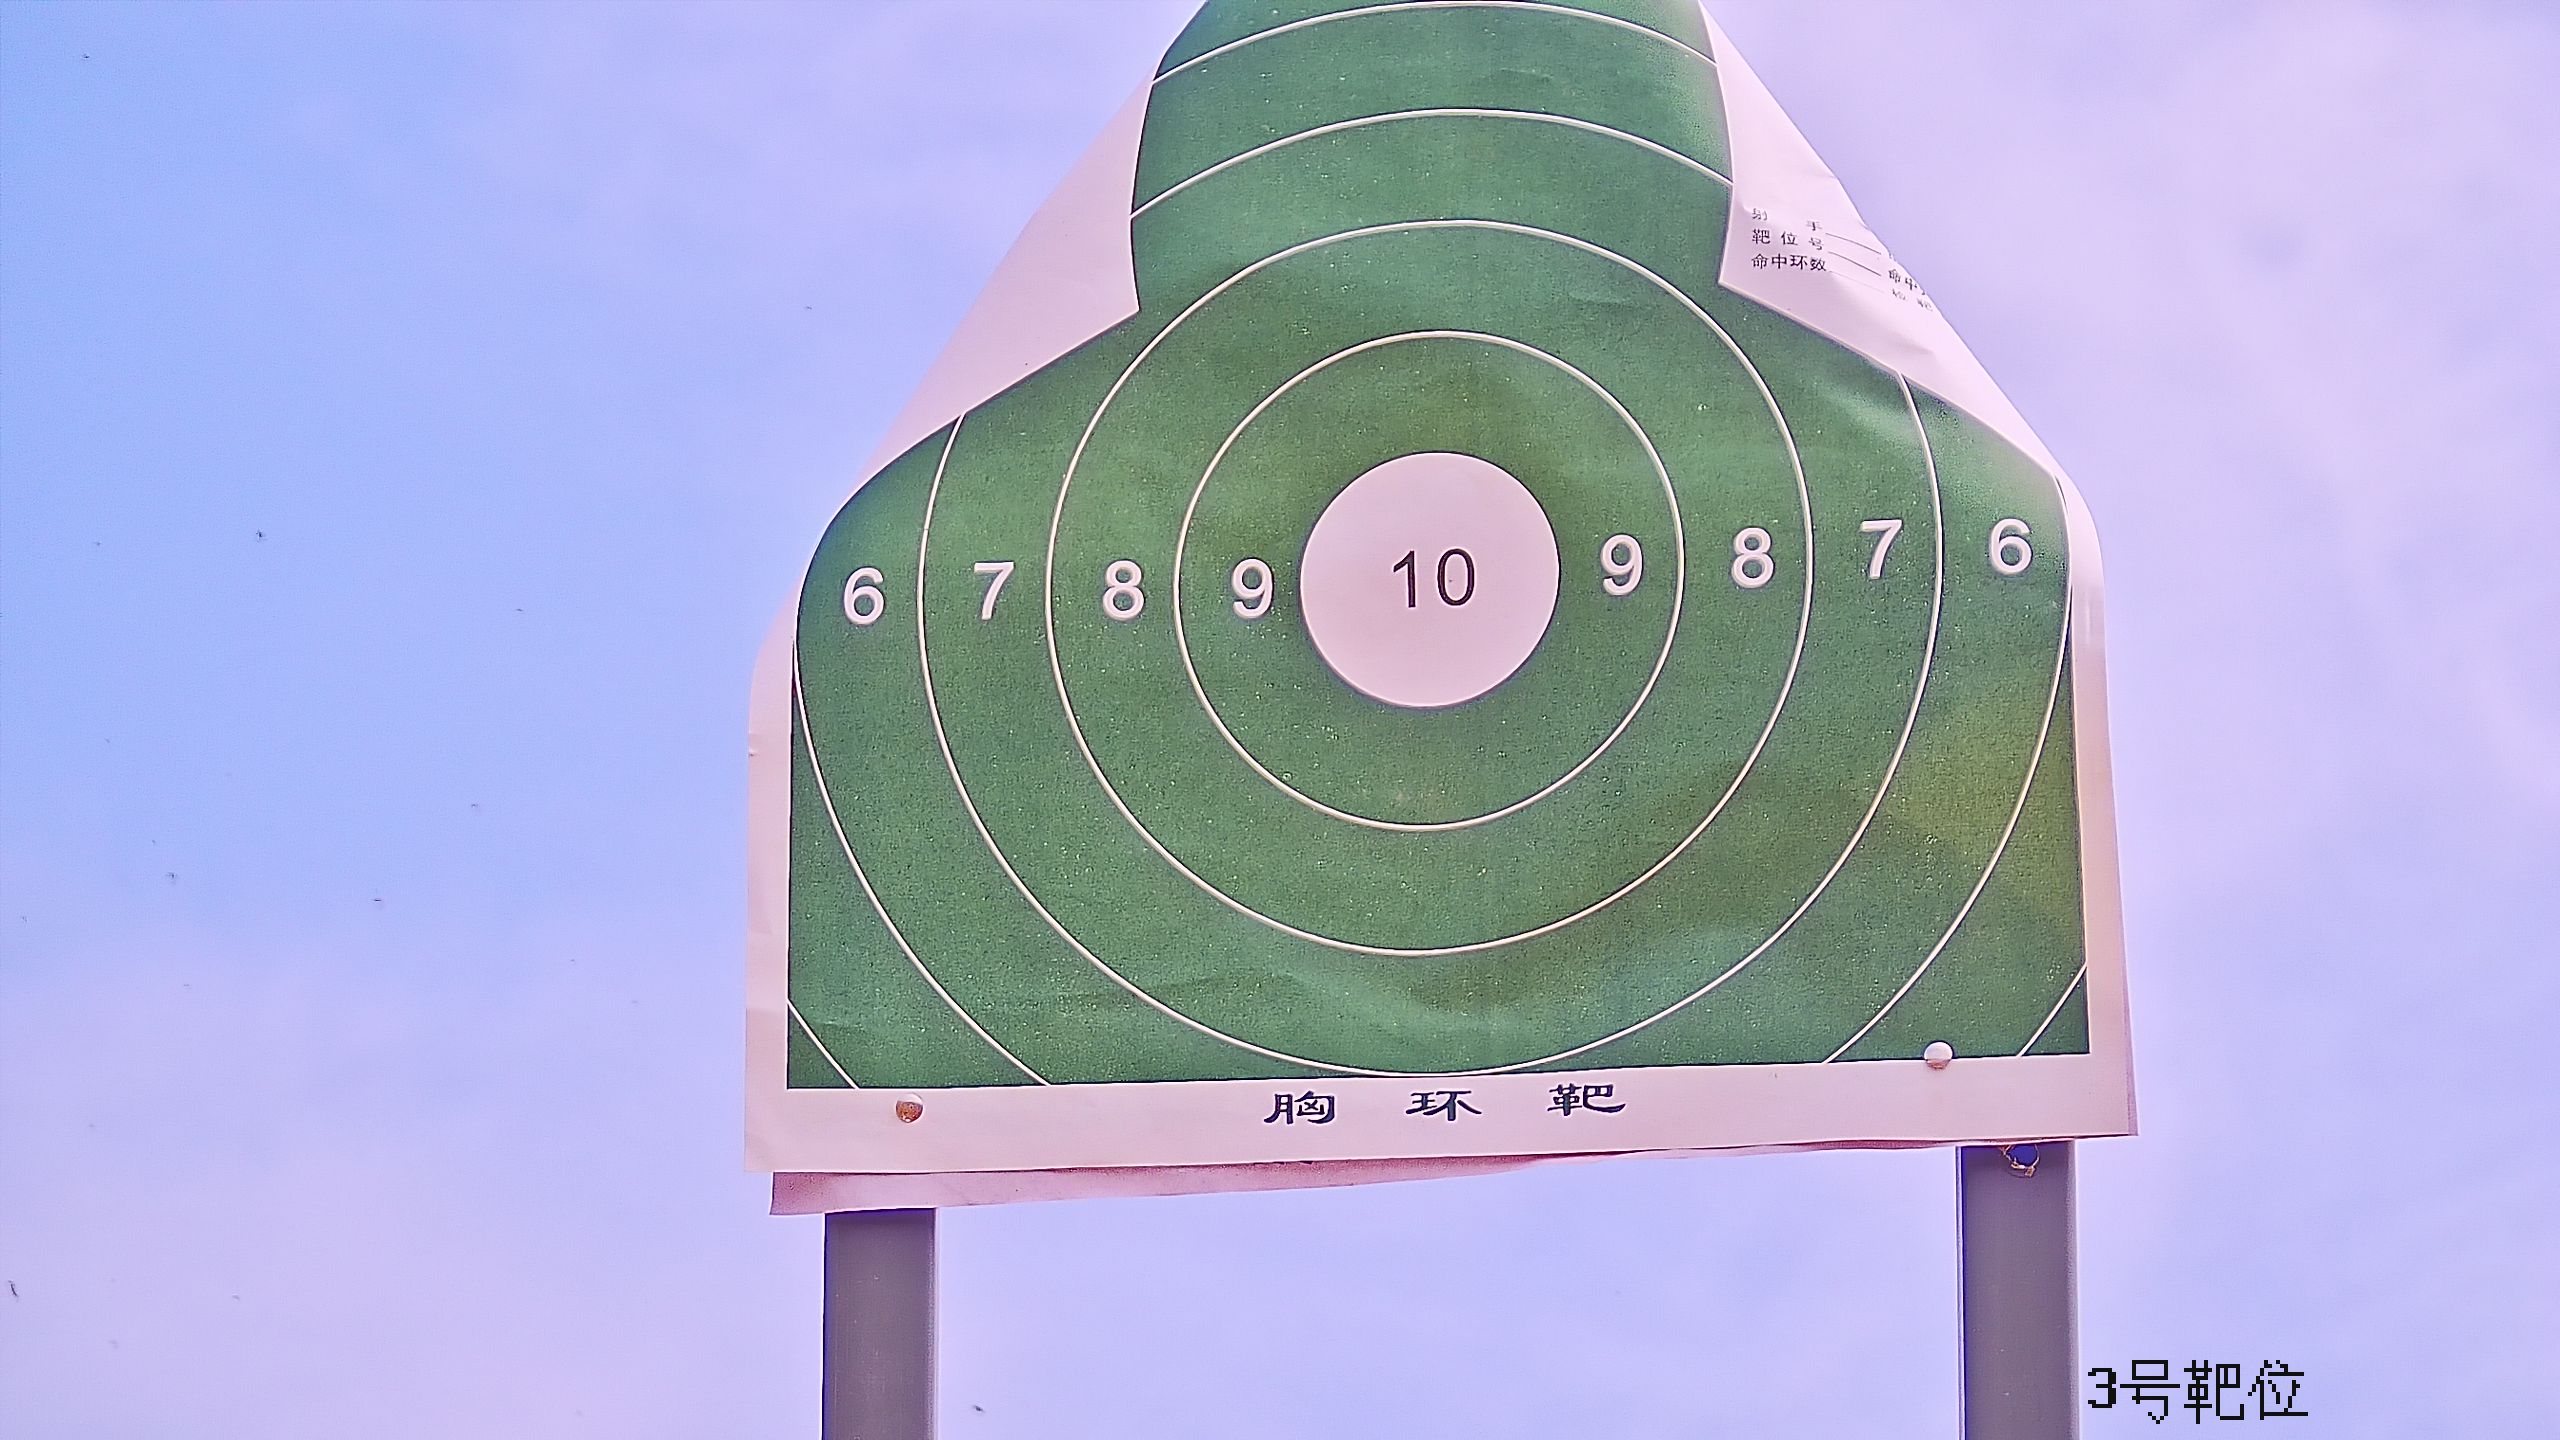kernel: (1428, 580, 1435, 585)
target: (786, 2, 2092, 1080)
ten: (1298, 448, 1565, 712)
